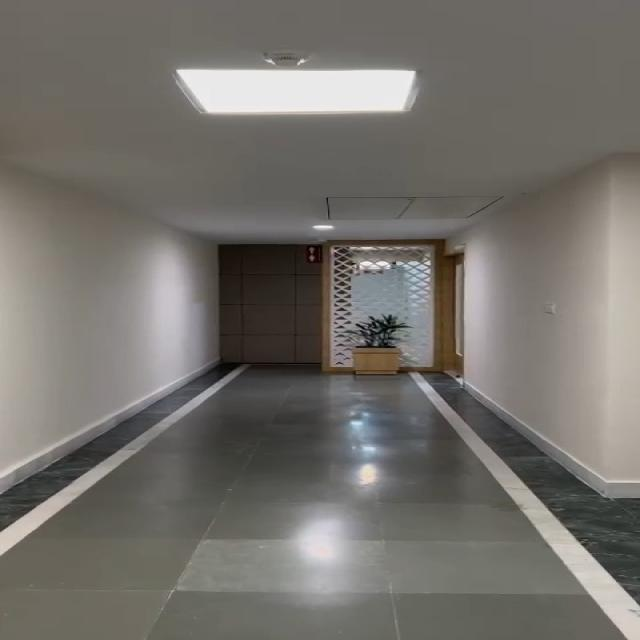floor: (0, 476, 640, 640), (190, 388, 513, 478)
furniture: (347, 307, 409, 387)
wall: (0, 162, 223, 393), (483, 207, 640, 432)
